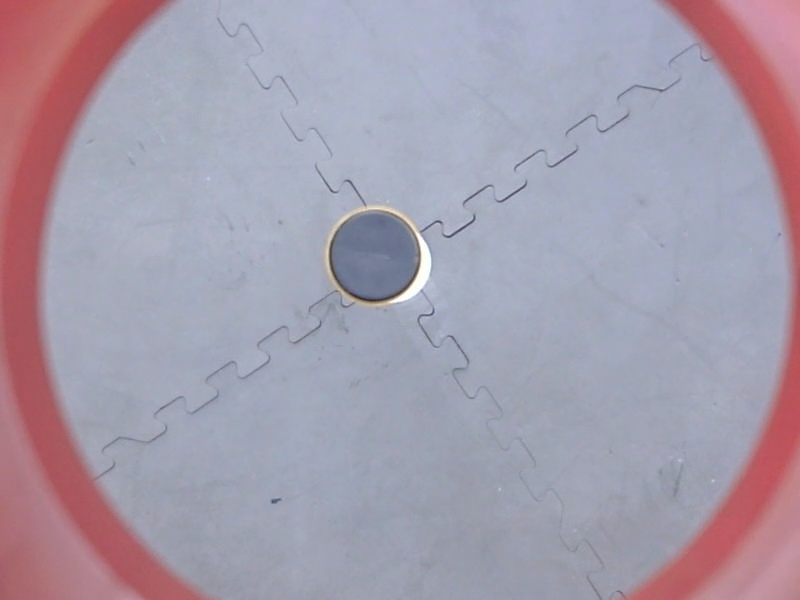tip: (323, 202, 427, 310)
